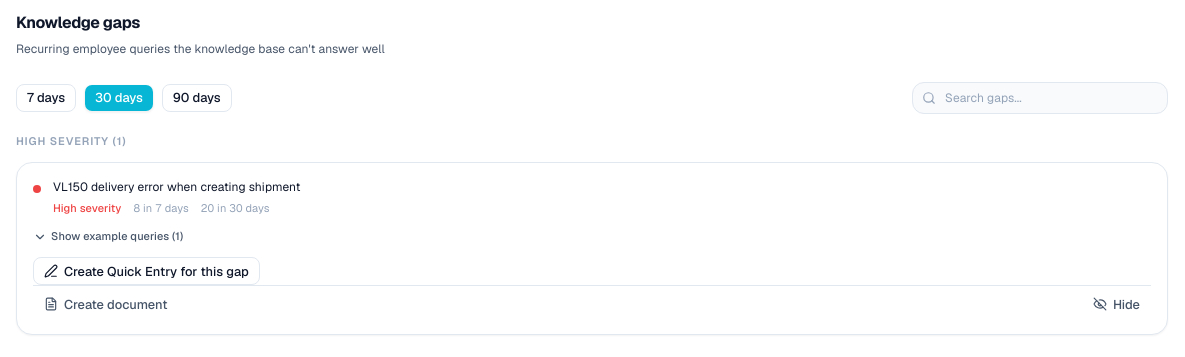
KnowledgeGapsPage › hides a gap when its Hide button is clicked, persisting the id to localStorage
Click the button "Hide" at (1116, 304), box [1082, 290, 1151, 318]
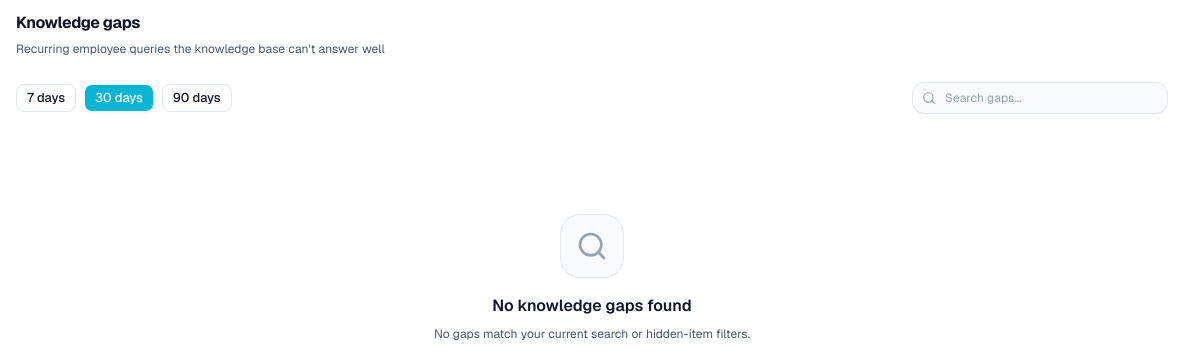
Expected: the text "No knowledge gaps found" is shown, [492, 295, 692, 316]
